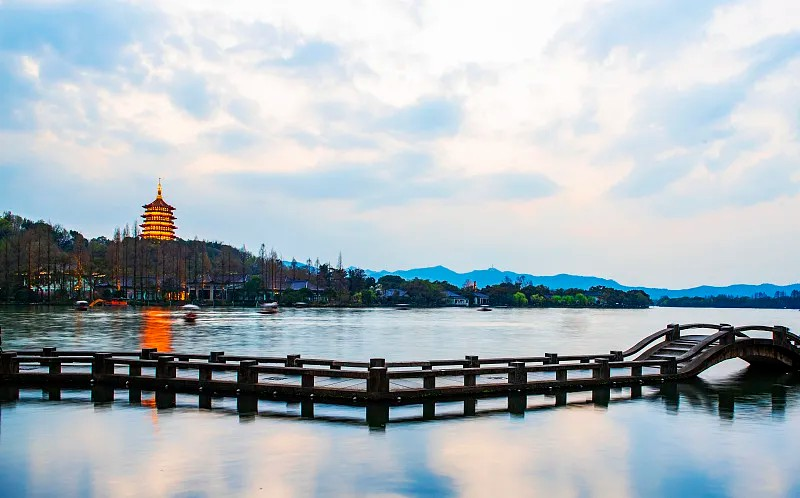Leifeng: (138, 177, 179, 243)
